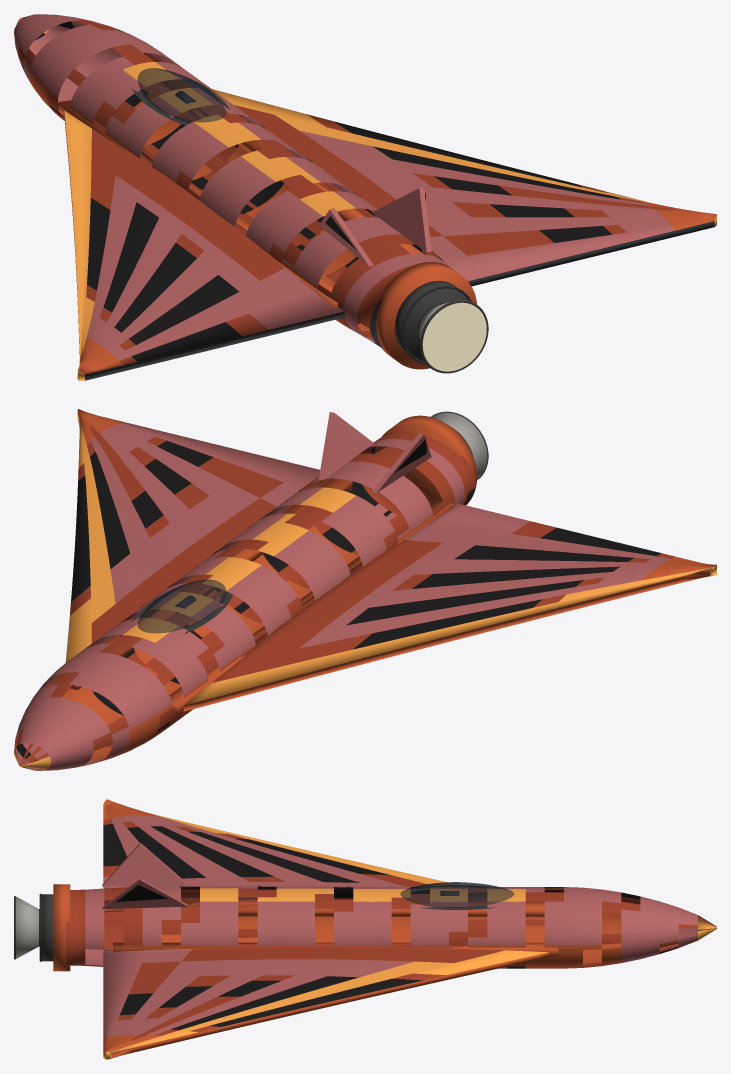
Rendered from Ship_TigerWing_10.glb.
The picture shows the model from 3 angles, top to bottom: view 1: azimuth 30°, elevation 25°; view 2: azimuth 150°, elevation 25°; view 3: azimuth 270°, elevation 25°; orthographic projection. The views are drawn at different scales.
Parts seen in each view (by area): view 1: Fuselage_OrganicEllipsoidTaperedBody_BakedPaint, Wing_Left_LongDeltaAerofoil_BakedPaint, Wing_Right_LongDeltaAerofoil_BakedPaint, EngineEmitter, AftCollar_IntegratedSingleEngineBand, CanopyGlass_LowInsetDome, EngineBlock_AftDarkSingleEngineHousing, TailFin_Right_CantedStabilizer, WingRoot_Left_EmbeddedShoulder, WingRoot_Right_EmbeddedShoulder, TailFin_Left_CantedStabilizer, CanopyFrame_DorsalOvalRim (+1 smaller); view 2: Fuselage_OrganicEllipsoidTaperedBody_BakedPaint, Wing_Left_LongDeltaAerofoil_BakedPaint, Wing_Right_LongDeltaAerofoil_BakedPaint, CanopyGlass_LowInsetDome, AftCollar_IntegratedSingleEngineBand, TailFin_Right_CantedStabilizer, WingRoot_Left_EmbeddedShoulder, EngineBell_Center_BroadBurnishedNozzle, WingRoot_Right_EmbeddedShoulder, TailFin_Left_CantedStabilizer, CanopyFrame_DorsalOvalRim; view 3: Fuselage_OrganicEllipsoidTaperedBody_BakedPaint, Wing_Right_LongDeltaAerofoil_BakedPaint, Wing_Left_LongDeltaAerofoil_BakedPaint, CanopyGlass_LowInsetDome, TailFin_Left_CantedStabilizer, AftCollar_IntegratedSingleEngineBand, WingRoot_Left_EmbeddedShoulder, EngineBell_Center_BroadBurnishedNozzle, WingRoot_Right_EmbeddedShoulder, TailFin_Right_CantedStabilizer, EngineBlock_AftDarkSingleEngineHousing, TailFin_Right_BakedTrimPatch.
Part boxes in pixels (left/top/right/bottom): Fuselage_OrganicEllipsoidTaperedBody_BakedPaint: left=14, top=14, right=449, bottom=348; Wing_Left_LongDeltaAerofoil_BakedPaint: left=64, top=111, right=344, bottom=380; Wing_Right_LongDeltaAerofoil_BakedPaint: left=212, top=89, right=716, bottom=286; EngineEmitter: left=422, top=302, right=486, bottom=371; AftCollar_IntegratedSingleEngineBand: left=376, top=262, right=476, bottom=369; CanopyGlass_LowInsetDome: left=137, top=68, right=226, bottom=123; EngineBlock_AftDarkSingleEngineHousing: left=394, top=281, right=468, bottom=361; TailFin_Right_CantedStabilizer: left=372, top=187, right=431, bottom=252; WingRoot_Left_EmbeddedShoulder: left=59, top=100, right=337, bottom=307; WingRoot_Right_EmbeddedShoulder: left=160, top=79, right=423, bottom=254; TailFin_Left_CantedStabilizer: left=319, top=208, right=373, bottom=266; CanopyFrame_DorsalOvalRim: left=131, top=77, right=230, bottom=125; Fuselage_OrganicEllipsoidTaperedBody_BakedPaint: left=14, top=432, right=475, bottom=770; Wing_Left_LongDeltaAerofoil_BakedPaint: left=172, top=503, right=716, bottom=711; Wing_Right_LongDeltaAerofoil_BakedPaint: left=65, top=409, right=320, bottom=662; CanopyGlass_LowInsetDome: left=137, top=579, right=227, bottom=633; AftCollar_IntegratedSingleEngineBand: left=374, top=415, right=476, bottom=505; TailFin_Right_CantedStabilizer: left=319, top=412, right=373, bottom=480; WingRoot_Left_EmbeddedShoulder: left=169, top=500, right=453, bottom=714; EngineBell_Center_BroadBurnishedNozzle: left=431, top=412, right=487, bottom=479; WingRoot_Right_EmbeddedShoulder: left=70, top=478, right=352, bottom=689; TailFin_Left_CantedStabilizer: left=372, top=433, right=431, bottom=493; CanopyFrame_DorsalOvalRim: left=131, top=586, right=232, bottom=634; Fuselage_OrganicEllipsoidTaperedBody_BakedPaint: left=66, top=886, right=716, bottom=968; Wing_Right_LongDeltaAerofoil_BakedPaint: left=103, top=943, right=550, bottom=1059; Wing_Left_LongDeltaAerofoil_BakedPaint: left=103, top=799, right=472, bottom=912; CanopyGlass_LowInsetDome: left=400, top=882, right=513, bottom=907; TailFin_Left_CantedStabilizer: left=102, top=842, right=187, bottom=886; AftCollar_IntegratedSingleEngineBand: left=53, top=884, right=70, bottom=971; WingRoot_Left_EmbeddedShoulder: left=113, top=901, right=544, bottom=916; EngineBell_Center_BroadBurnishedNozzle: left=16, top=896, right=38, bottom=958; WingRoot_Right_EmbeddedShoulder: left=113, top=942, right=558, bottom=956; TailFin_Right_CantedStabilizer: left=102, top=878, right=187, bottom=909; EngineBlock_AftDarkSingleEngineHousing: left=41, top=894, right=53, bottom=961; TailFin_Right_BakedTrimPatch: left=116, top=885, right=167, bottom=901.
Bounding box in the file's own units: 6.75 × 1.32 × 7.95.
